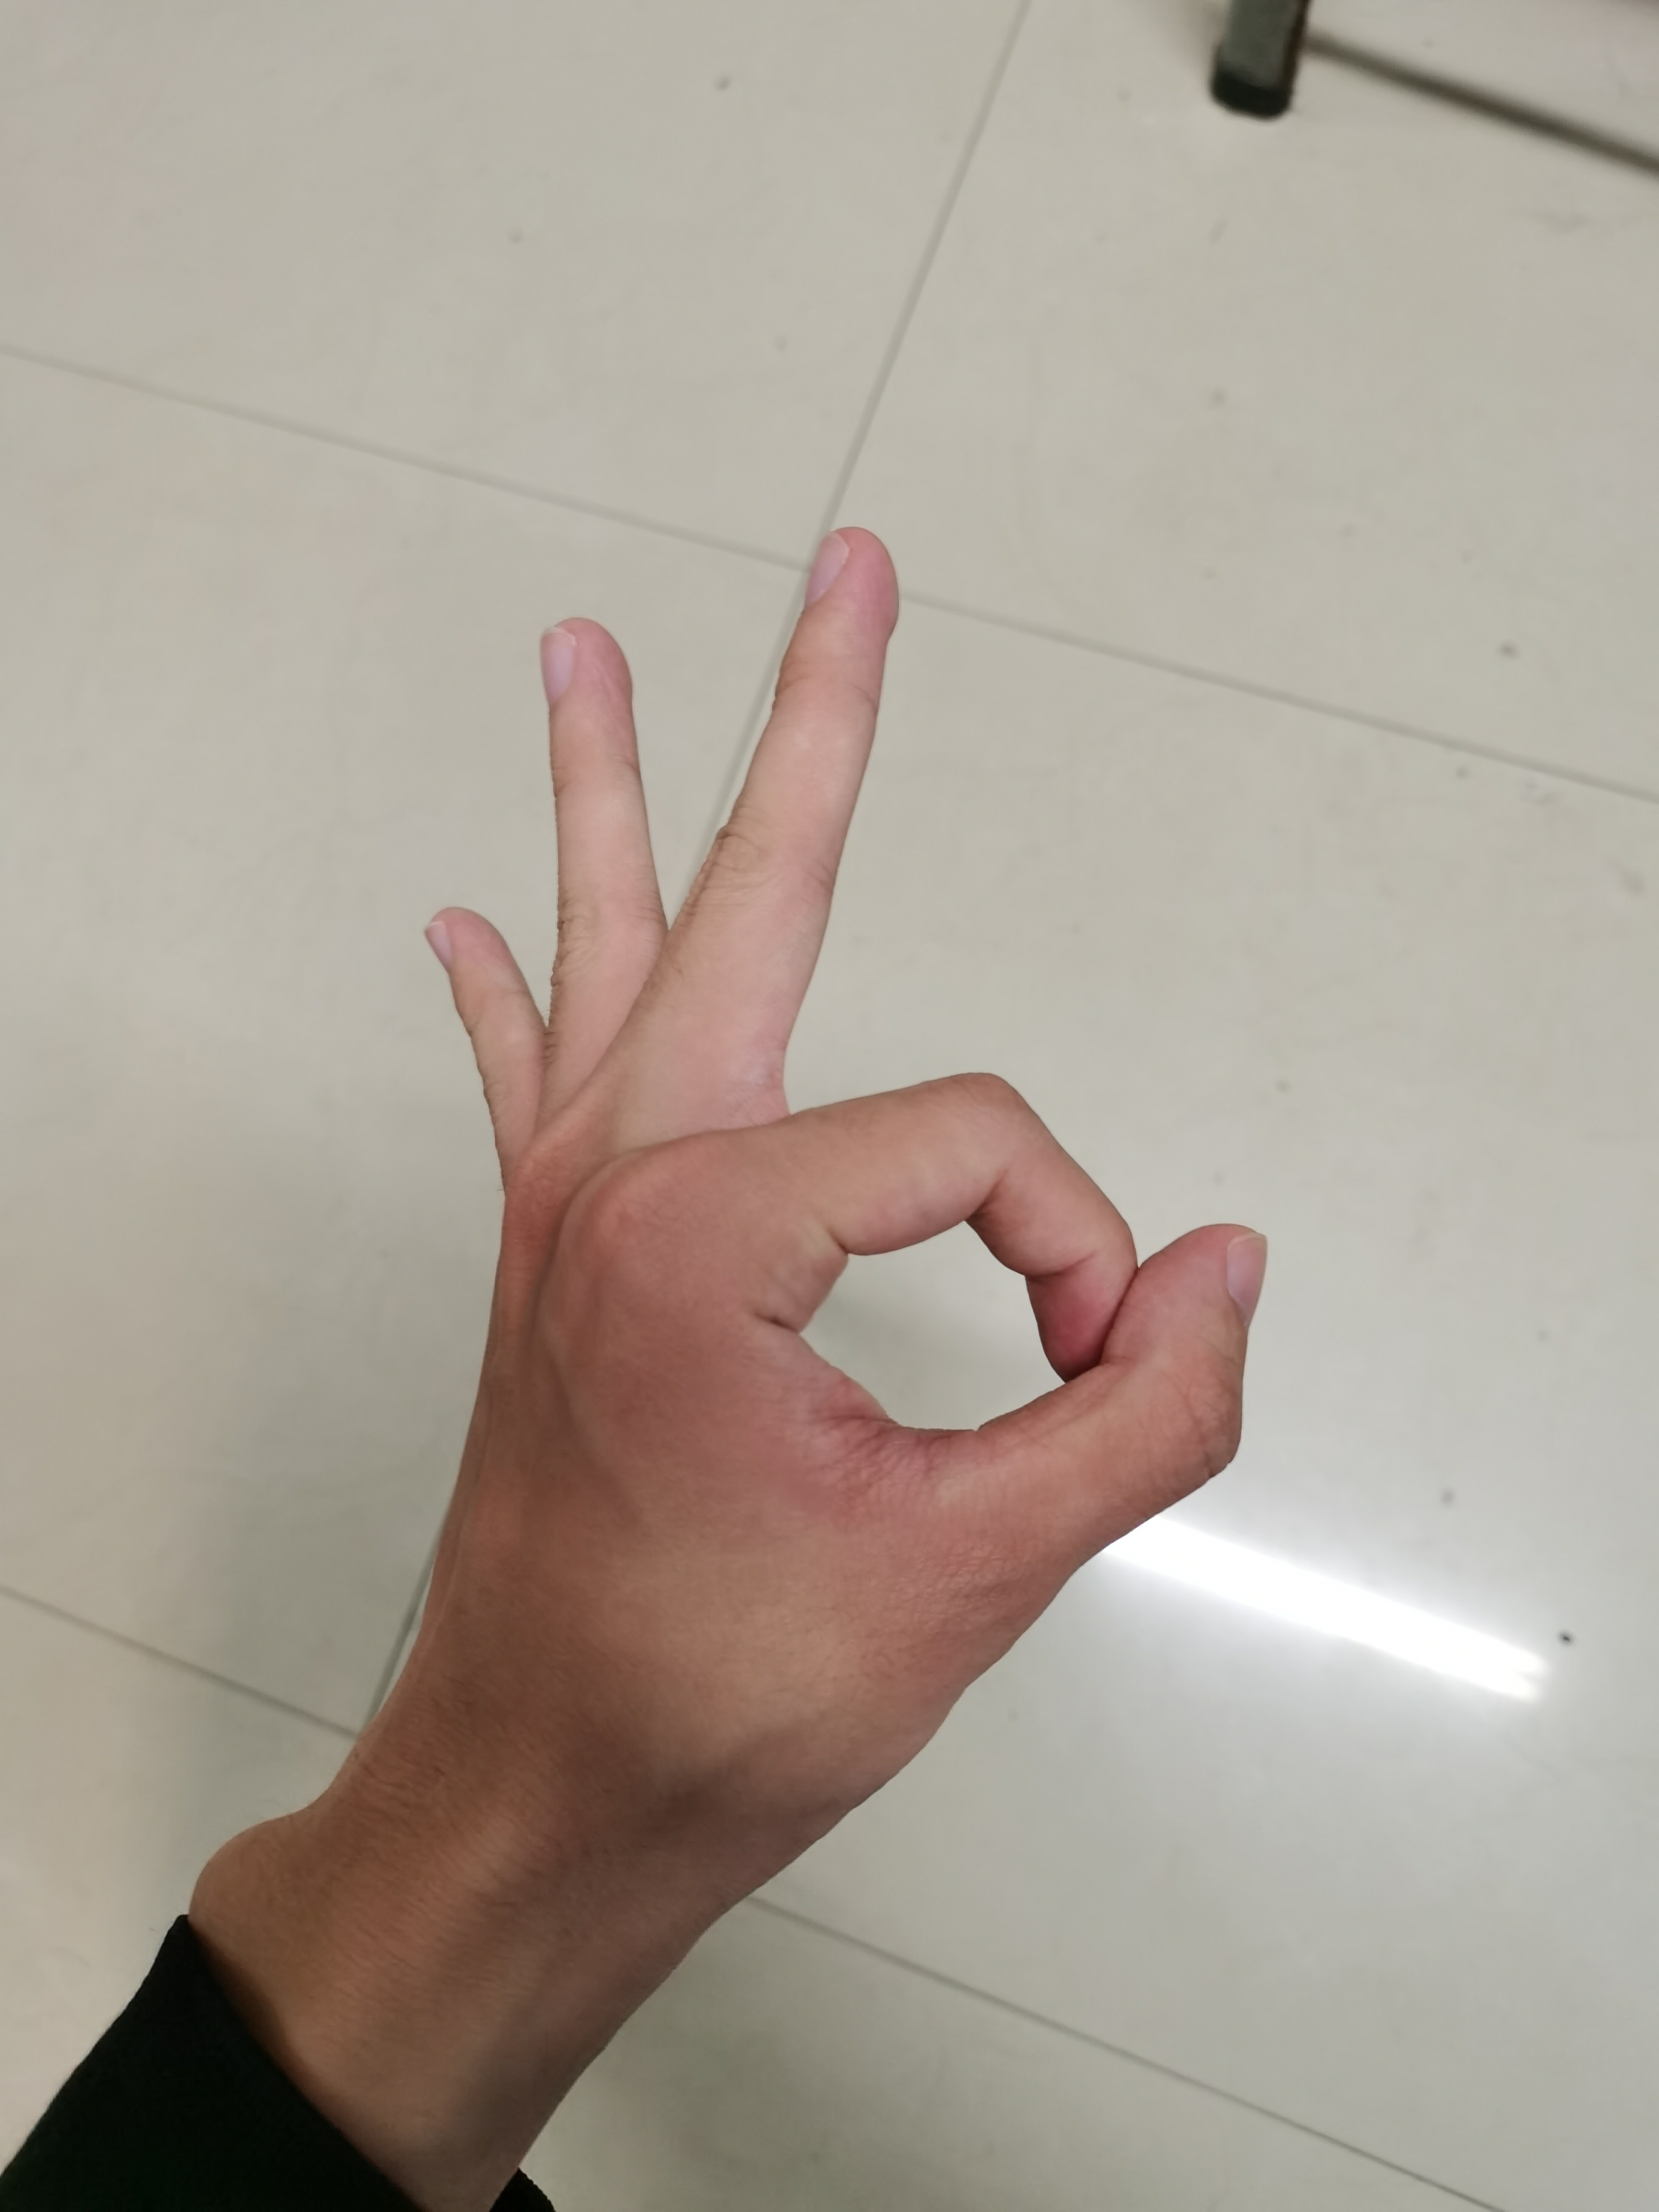no-phone: (296, 477, 1291, 1939)
